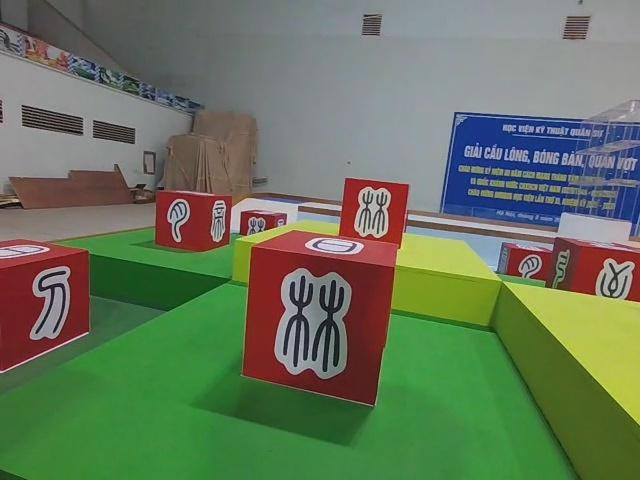R2 Fake: (242, 229, 400, 407), (0, 240, 91, 377), (551, 238, 640, 322), (337, 178, 408, 247), (153, 190, 230, 253), (493, 240, 552, 301)
